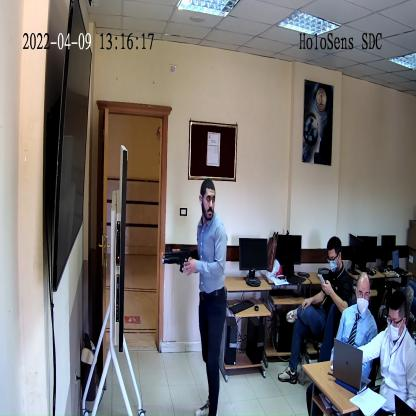handgun: (159, 243, 200, 274)
